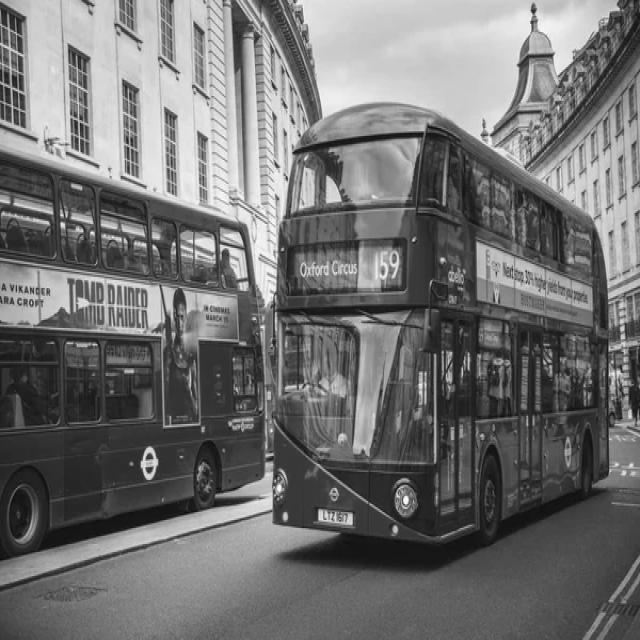Bus: (274, 102, 610, 544), (0, 147, 265, 556)
